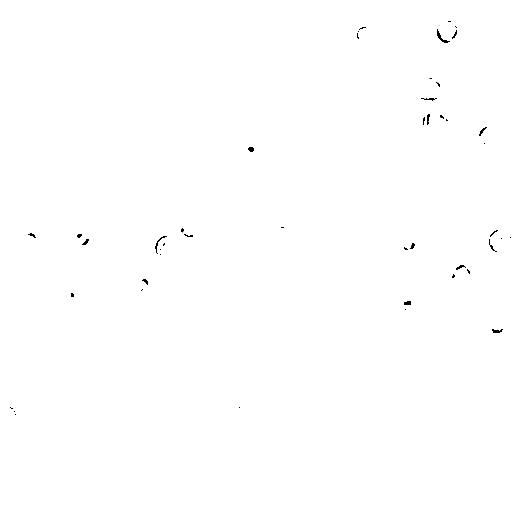micro-algae: (345, 28, 464, 133), (73, 117, 161, 207), (83, 69, 158, 145), (409, 43, 481, 113), (251, 0, 309, 59), (386, 276, 427, 324), (3, 0, 47, 33), (81, 263, 116, 303), (234, 138, 267, 179), (36, 68, 67, 103), (421, 105, 454, 137), (411, 75, 443, 104), (184, 413, 217, 441), (137, 159, 169, 187), (152, 235, 182, 264), (311, 295, 338, 327), (427, 442, 456, 471), (218, 391, 250, 417), (477, 122, 506, 149), (217, 264, 245, 291), (139, 255, 168, 279), (487, 227, 511, 256), (437, 17, 461, 44), (289, 7, 320, 27), (395, 287, 419, 312), (59, 491, 85, 511), (451, 262, 473, 285), (238, 138, 261, 160), (178, 155, 198, 180), (493, 51, 511, 77), (176, 219, 199, 239), (63, 285, 84, 305), (342, 295, 359, 319), (1, 404, 19, 426), (338, 416, 358, 435), (486, 315, 506, 334), (355, 24, 375, 43), (217, 5, 237, 23), (22, 229, 39, 250), (271, 242, 292, 259), (273, 225, 291, 242), (400, 234, 418, 251), (132, 275, 149, 291), (75, 231, 91, 247), (504, 82, 511, 103)
